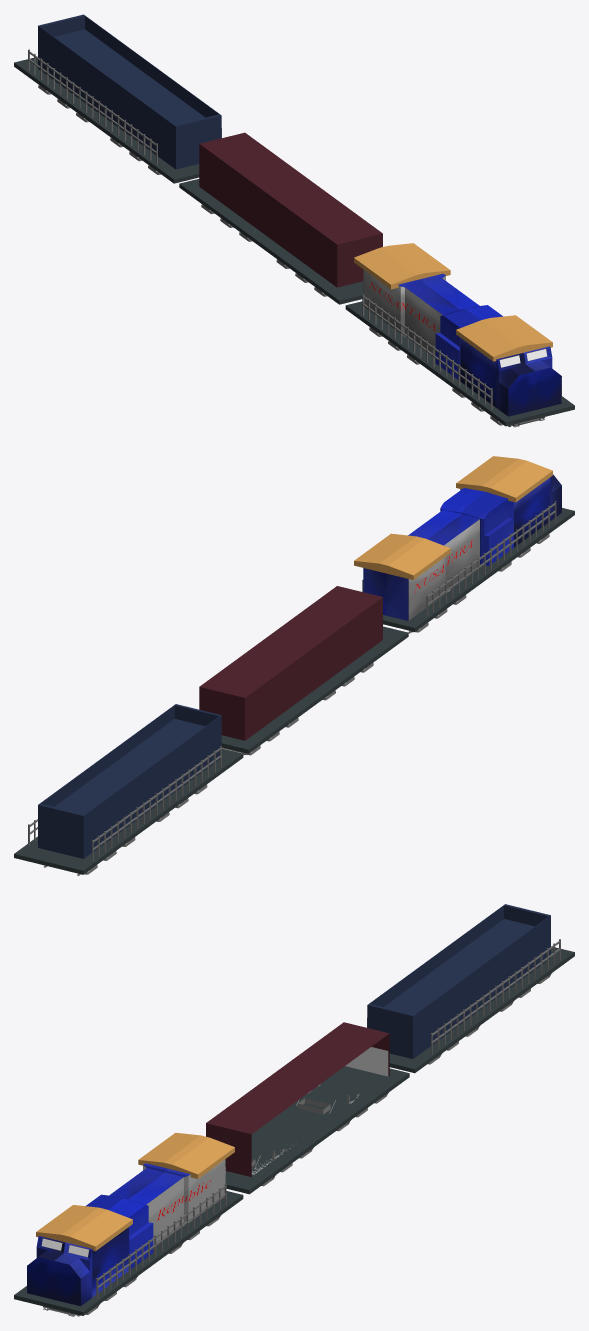
File: Train.gltf
3 renders of one model, top to bottom at view 1: azimuth 30°, elevation 25°; view 2: azimuth 150°, elevation 25°; view 3: azimuth 330°, elevation 25°, orthographic.
Visible parts, largest first — view 1: Cube.006, Cube.004, Cube, Cube.005, Cube.001, Cube.003, Cube.008, Cube.002, Cube.007, Cube.010; view 2: Cube.006, Cube.004, Cube, Cube.008, Cube.005, Cube.002, Cube.003, Cube.001, Cube.010, Cube.007; view 3: Cube.004, Cube, Cube.006, Cube.005, Cube.001, Cube.003, Cube.008, Cube.002, Cube.007, Cube.010, Cube.011, uploads_files_1889991_Train.006.
Boxes of the visible parts, x1,y1,x2,y2 form: Cube.006: (199,132,382,287); Cube.004: (38,14,221,169); Cube: (363,269,561,416); Cube.005: (179,179,363,304); Cube.001: (345,301,574,426); Cube.003: (456,315,552,361); Cube.008: (14,56,199,183); Cube.002: (354,243,450,289); Cube.007: (362,294,492,409); Cube.010: (28,49,221,164); Cube.006: (199,586,382,740); Cube.004: (38,704,221,858); Cube: (363,474,561,620); Cube.008: (14,748,243,874); Cube.005: (221,626,408,753); Cube.002: (354,533,450,579); Cube.003: (456,456,552,502); Cube.001: (383,508,574,631); Cube.010: (28,746,221,861); Cube.007: (362,501,556,616); Cube.004: (367,904,550,1058); Cube: (27,1159,225,1306); Cube.006: (206,1022,389,1176); Cube.005: (225,1066,409,1194); Cube.001: (14,1191,243,1315); Cube.003: (36,1205,132,1251); Cube.008: (389,947,574,1073); Cube.002: (138,1132,234,1178); Cube.007: (96,1184,226,1299); Cube.010: (367,939,560,1054); Cube.011: (251,1047,388,1174); uploads_files_1889991_Train.006: (296,1084,388,1131).
Size of the model in its own units: 1.15 by 1.21 by 14.08.
7 materials, 1 textured.
